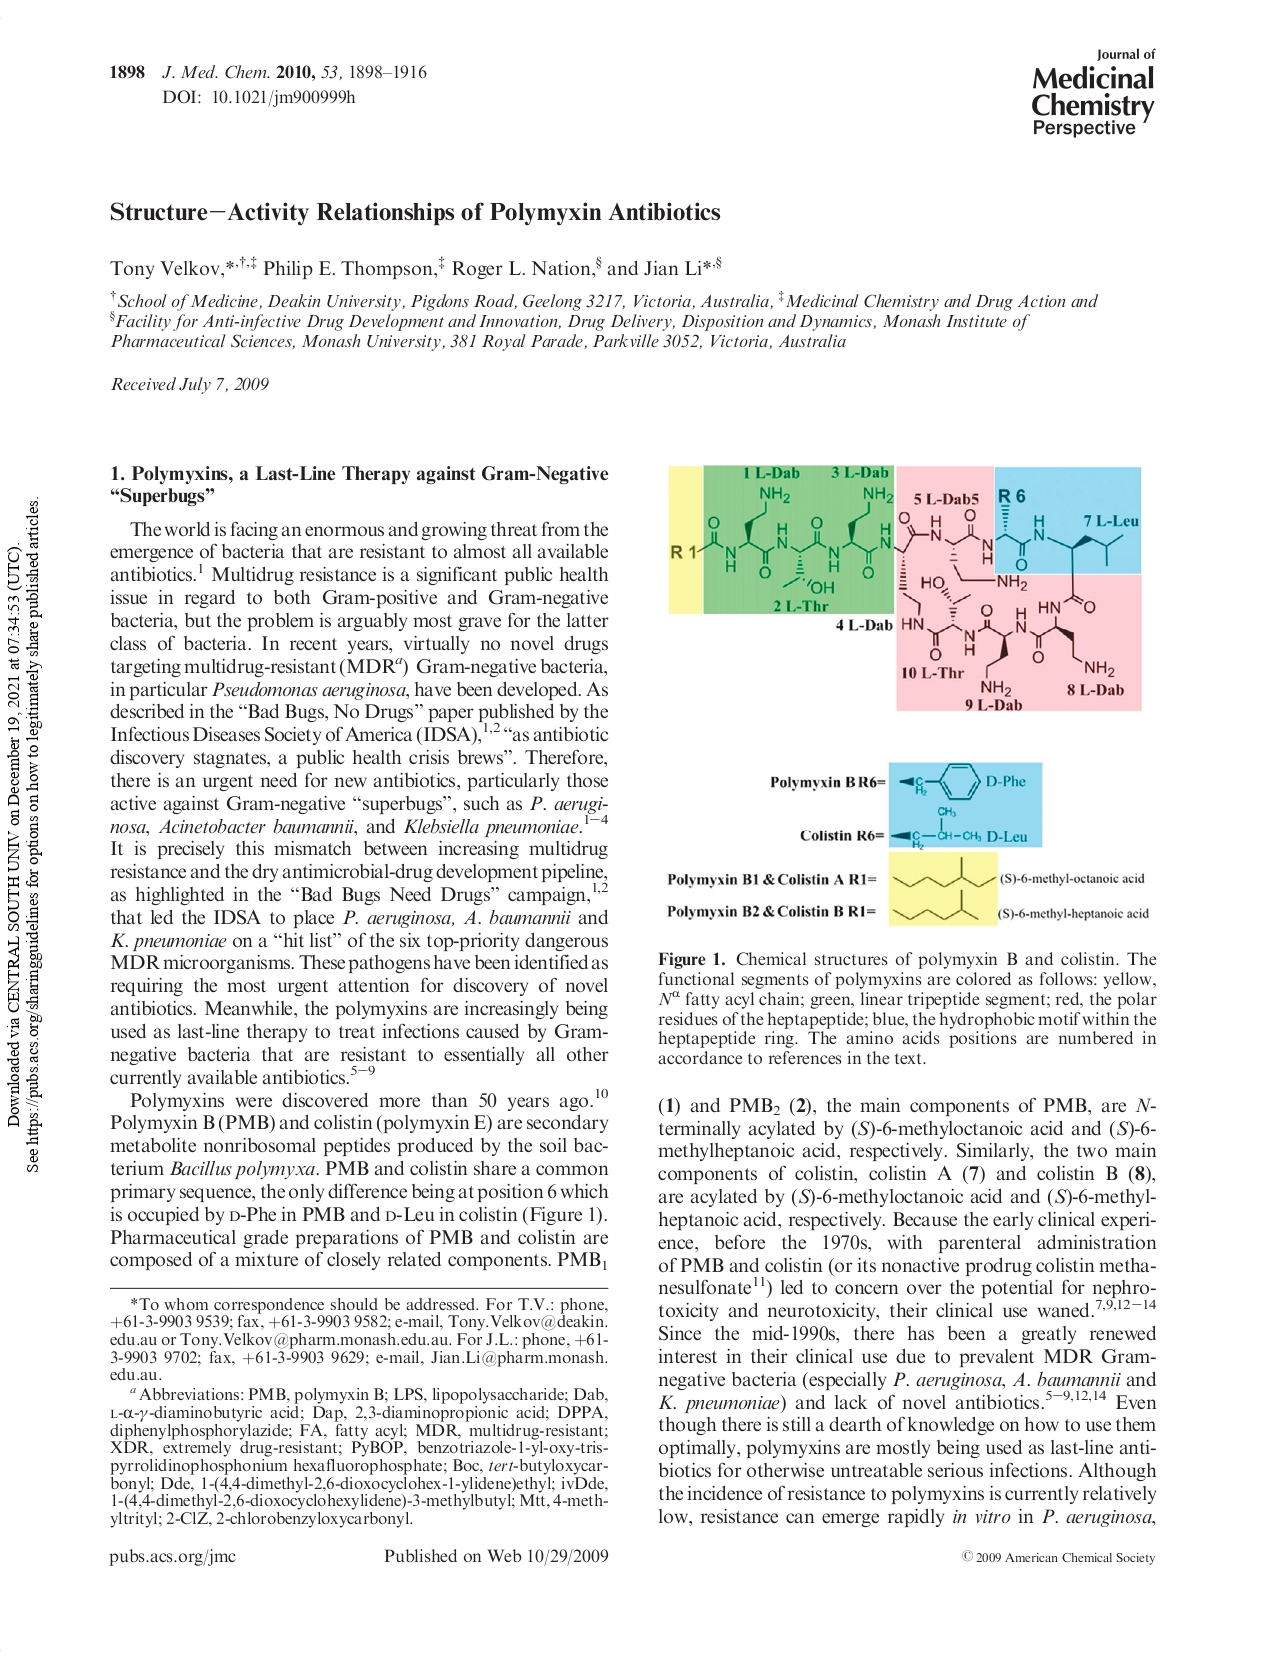exist_molecular: (670, 485, 1138, 698), (912, 762, 1031, 850), (892, 852, 997, 922)
